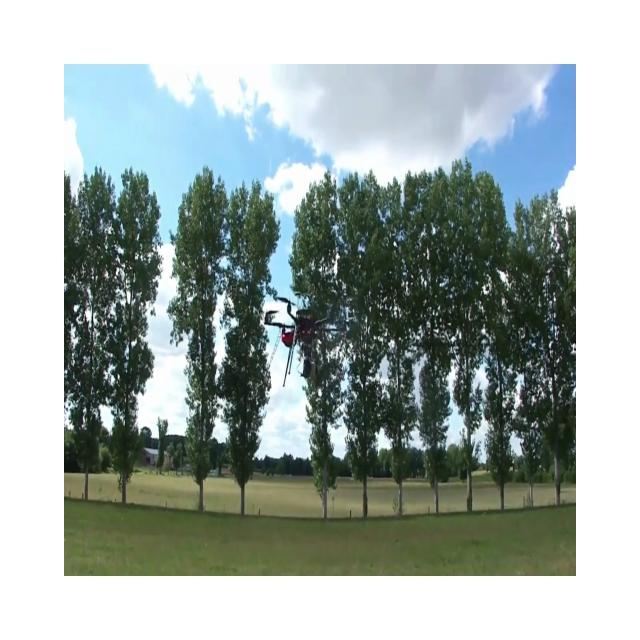drone: (263, 292, 351, 388)
